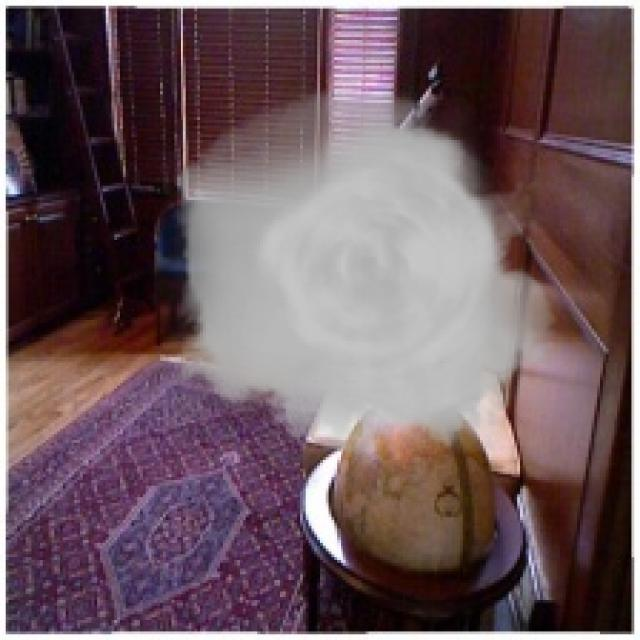smoke: (154, 89, 569, 452)
